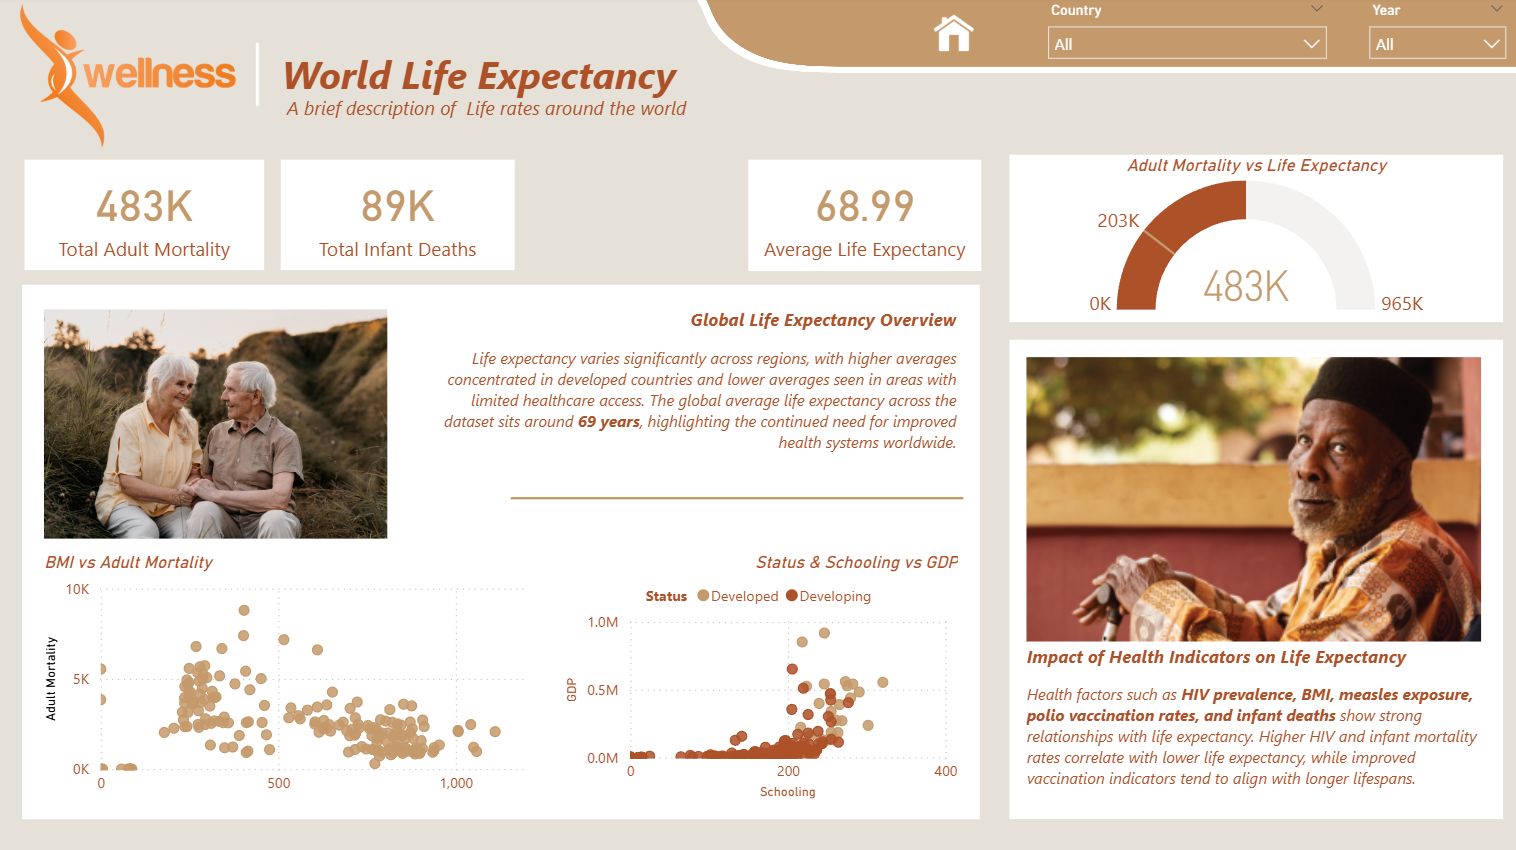

Layout of this report page (visuals, bound fields, positions):
{"tool":"powerbi","page":{"name":"HOME PAGE","canvas":[1280,720],"ordinal":0},"visuals":[{"type":"image","box":[0,0,1280,720.5],"z":0},{"type":"slicer","fields":{"Values":["world_life_expectancy.Year"]},"box":[1144.3,0,135.7,62.4],"z":1000},{"type":"slicer","fields":{"Values":["world_life_expectancy.Country"]},"box":[874.1,0,254.6,54],"z":2000},{"type":"card","fields":{"Values":["Sum(world_life_expectancy.Adult Mortality)"]},"box":[22.7,137.7,201.7,92.5],"z":3000},{"type":"card","fields":{"Values":["Sum(world_life_expectancy.Infant Deaths)"]},"box":[238.8,137.7,196.9,92.5],"z":4000},{"type":"image","box":[782.9,9.6,43.2,43.2],"z":5000},{"type":"image","box":[0,0,219.7,133.3],"z":6000},{"type":"textbox","box":[234.1,38.4,548.7,56.4],"z":7000},{"type":"image","box":[87.7,27.6,264.2,78],"z":8000},{"type":"textbox","box":[238.9,78,453.9,33.6],"z":9000},{"type":"shape","box":[21,242.9,805.4,460.5],"z":10000},{"type":"image","box":[34.8,229.3,299,261.8],"z":11000},{"type":"card","fields":{"Values":["Avg(world_life_expectancy.Life expectancy)"]},"box":[632,137.4,196.2,93.2],"z":12000},{"type":"shape","box":[851.6,289.1,415.3,414.3],"z":13000},{"type":"image","box":[861.5,273.3,392.3,300.5],"z":14000},{"type":"scatterChart","title":"BMI vs Adult Mortality","fields":{"X":["Sum(world_life_expectancy.BMI)"],"Y":["Sum(world_life_expectancy.Adult Mortality)"],"Category":["world_life_expectancy.Country"]},"box":[34.8,468.3,431.1,212.5],"z":15000},{"type":"textbox","box":[564.9,256.3,247.7,33.4],"z":16000},{"type":"textbox","box":[359,289.7,453.6,109.9],"z":17000},{"type":"textbox","box":[861.2,573.2,392.3,119.7],"z":18000},{"type":"textbox","box":[861.5,540.4,349.2,33.4],"z":19000},{"type":"gauge","title":"Adult Mortality vs Life Expectancy","fields":{"Y":["Sum(world_life_expectancy.Adult Mortality)"],"TargetValue":["Sum(world_life_expectancy.Life expectancy)"]},"box":[851.3,133.3,415.5,140.5],"z":20000},{"type":"scatterChart","title":"Status & Schooling vs GDP  ","fields":{"X":["Sum(world_life_expectancy.Schooling)"],"Y":["Sum(world_life_expectancy.GDP)"],"Series":["world_life_expectancy.Status"],"Category":["world_life_expectancy.Country"]},"box":[473.1,468.3,339.8,212.5],"z":21000},{"type":"shape","box":[432.3,272.6,380.6,300.2],"z":22000}]}

Visuals, with their boxes in screenshot pixels (x1, y1, x2, y2), scaled from the page's 1280x720 canvas onto the 1516x850 screenshot:
image: (0,0,1515,849)
slicer - world_life_expectancy.Year: (1355,0,1515,74)
slicer - world_life_expectancy.Country: (1035,0,1337,64)
card - Sum(world_life_expectancy.Adult Mortality): (27,163,266,272)
card - Sum(world_life_expectancy.Infant Deaths): (283,163,516,272)
image: (927,11,978,62)
image: (0,0,260,157)
textbox: (277,45,927,112)
image: (104,33,417,125)
textbox: (283,92,821,132)
shape: (25,287,979,830)
image: (41,271,395,580)
card - Avg(world_life_expectancy.Life expectancy): (749,162,981,272)
shape: (1009,341,1500,830)
image: (1020,323,1485,677)
"BMI vs Adult Mortality" scatterChart: (41,553,552,804)
textbox: (669,303,962,342)
textbox: (425,342,962,472)
textbox: (1020,677,1485,818)
textbox: (1020,638,1434,677)
"Adult Mortality vs Life Expectancy" gauge: (1008,157,1500,323)
"Status & Schooling vs GDP  " scatterChart: (560,553,963,804)
shape: (512,322,963,676)
